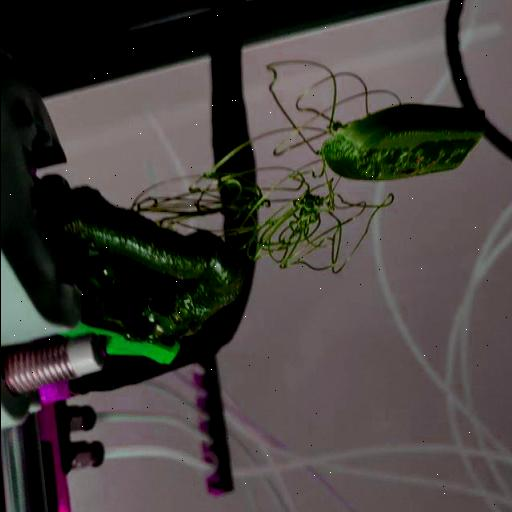spaghetti: (124, 128, 402, 284), (258, 58, 400, 128)
